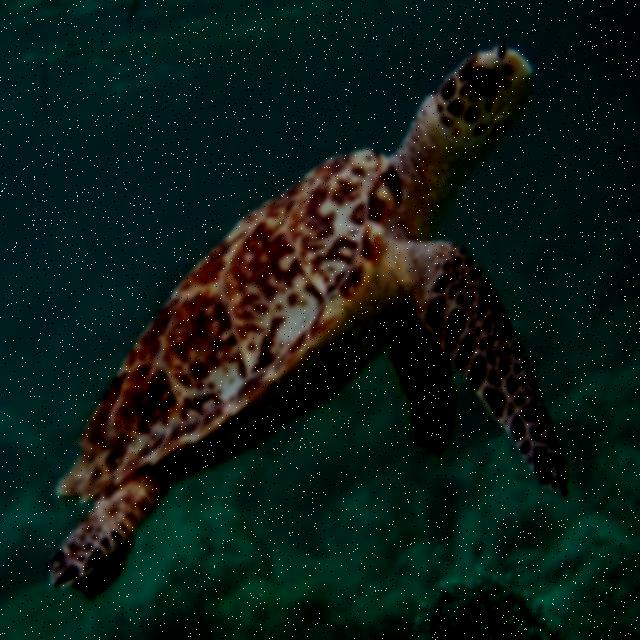tortoise: (36, 48, 564, 602)
